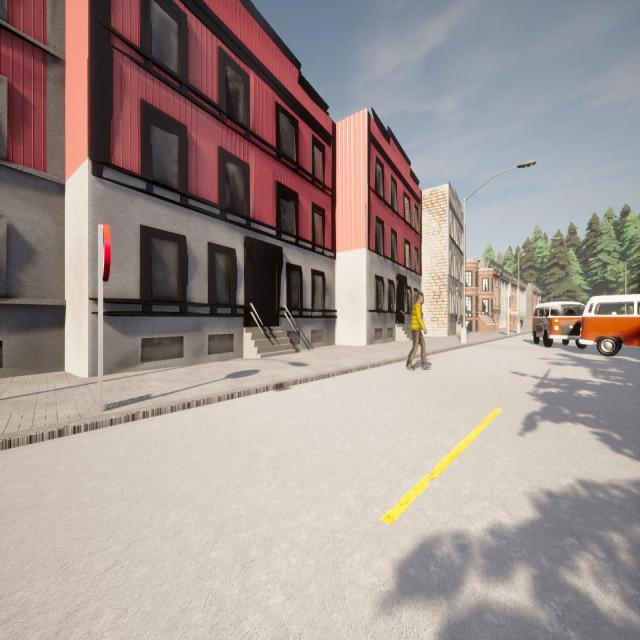Pedestrian: (406, 292, 431, 370), (520, 314, 524, 330), (509, 320, 514, 329)
Traffic_Signs: (98, 223, 114, 281)
Vehicle: (579, 295, 640, 356), (531, 302, 585, 348)
traffic_light: (507, 296, 511, 308)
